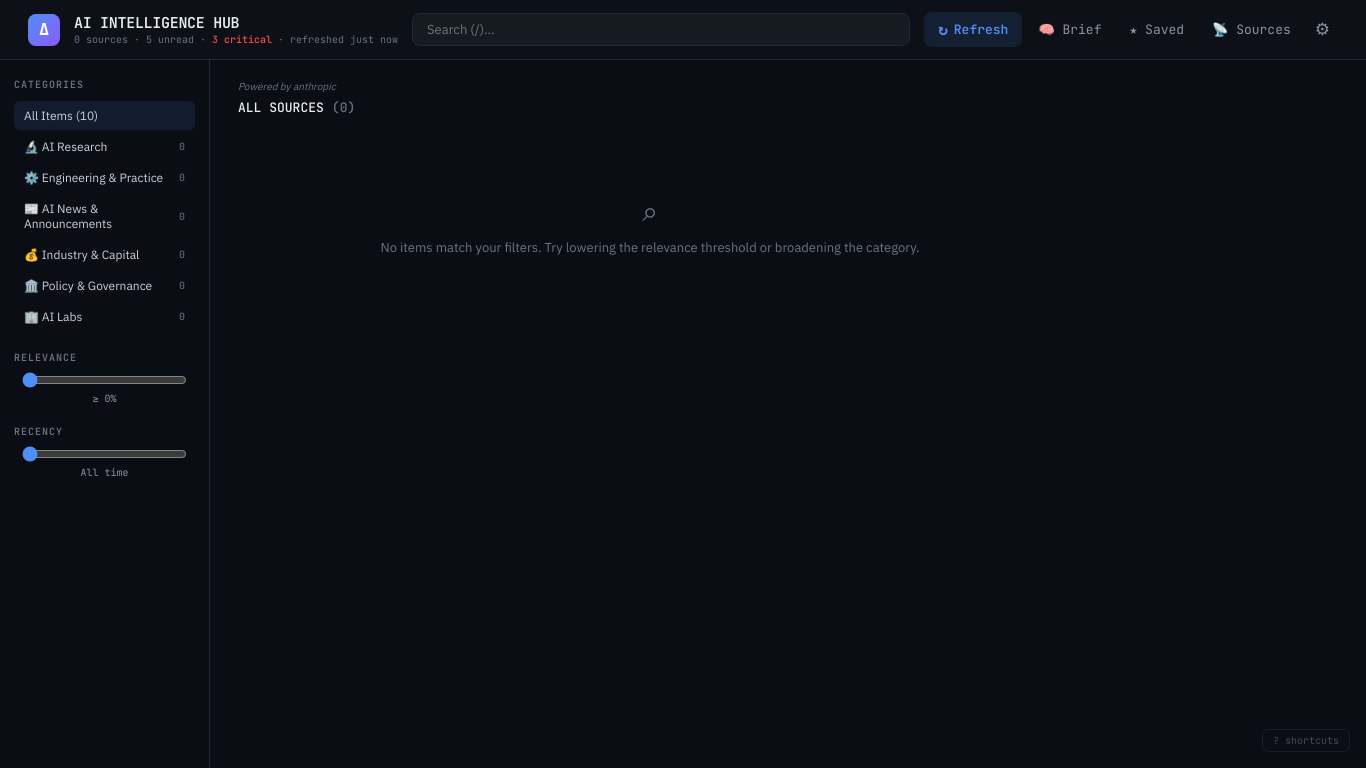
Test: App › critical link is clickable and filters items
The image size is (1366, 768).
Click the link "3 critical".
click(215, 40)  # box [212,33,272,46]
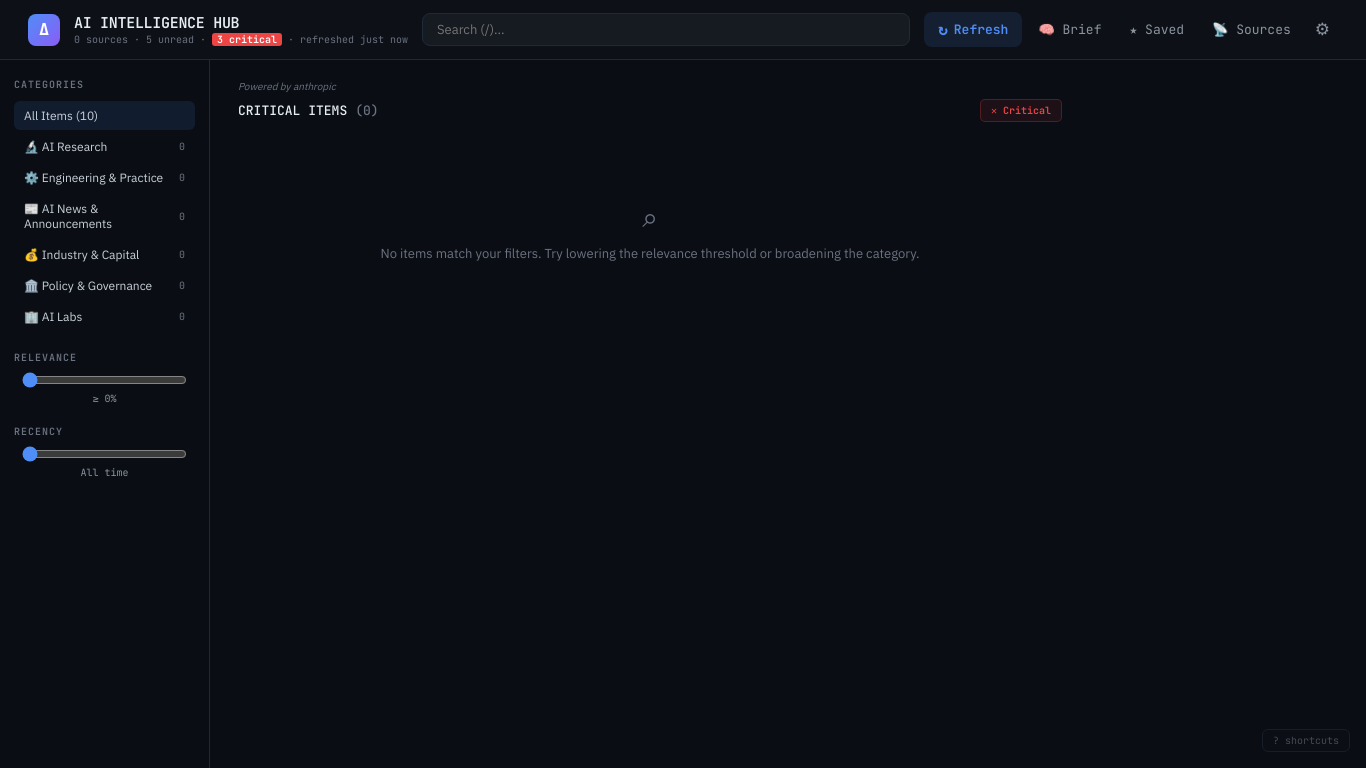
Now the text "CRITICAL ITEMS" is shown, box [238,102,347,119]
